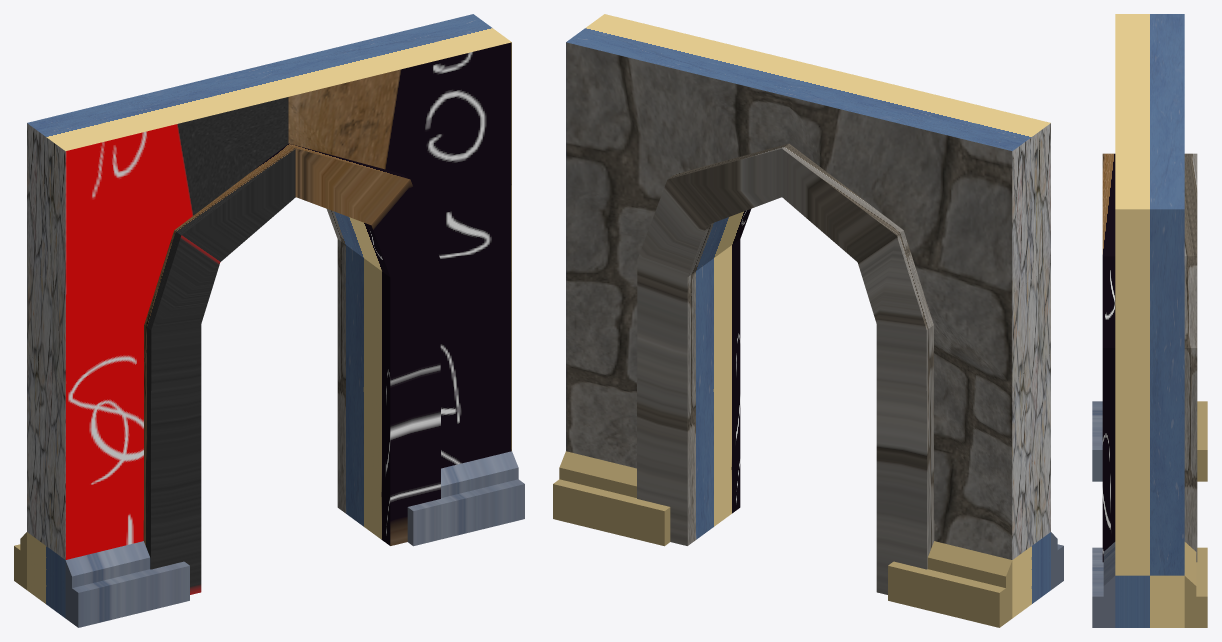
The model's file is Atea.obj.
3 views of the same model, side by side, from view 1: azimuth 30°, elevation 25°; view 2: azimuth 150°, elevation 25°; view 3: azimuth 270°, elevation 25° (orthographic). The views are drawn at different scales.
Parts seen in each view (by area): view 1: Horma_Atea, Atea_Marco, Horma_Atea_Bottom; view 2: Horma_Atea, Atea_Marco, Horma_Atea_Bottom; view 3: Horma_Atea, Atea_Marco, Horma_Atea_Bottom.
Part boxes in pixels (x1,y1,x2,y2): Horma_Atea: (27,14,511,559); Atea_Marco: (143,143,440,594); Horma_Atea_Bottom: (14,451,524,627); Horma_Atea: (566,14,1050,559); Atea_Marco: (637,143,934,594); Horma_Atea_Bottom: (553,451,1063,627); Horma_Atea: (1115,14,1184,575); Atea_Marco: (1102,153,1197,562); Horma_Atea_Bottom: (1092,401,1207,627).
Bounding box in the file's own units: 4 × 4 × 1.
